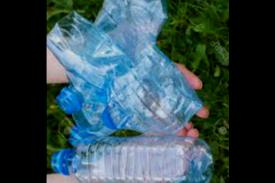Plastic: (49, 134, 215, 182)
